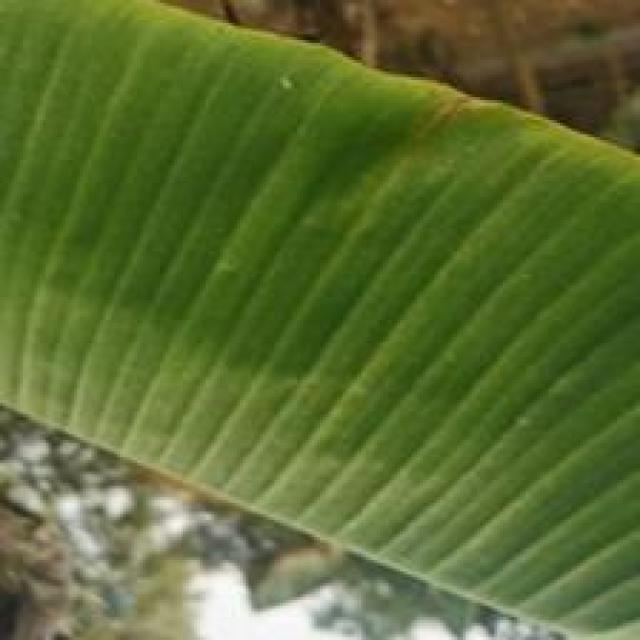Black_leaf_spot: (0, 5, 640, 614)
